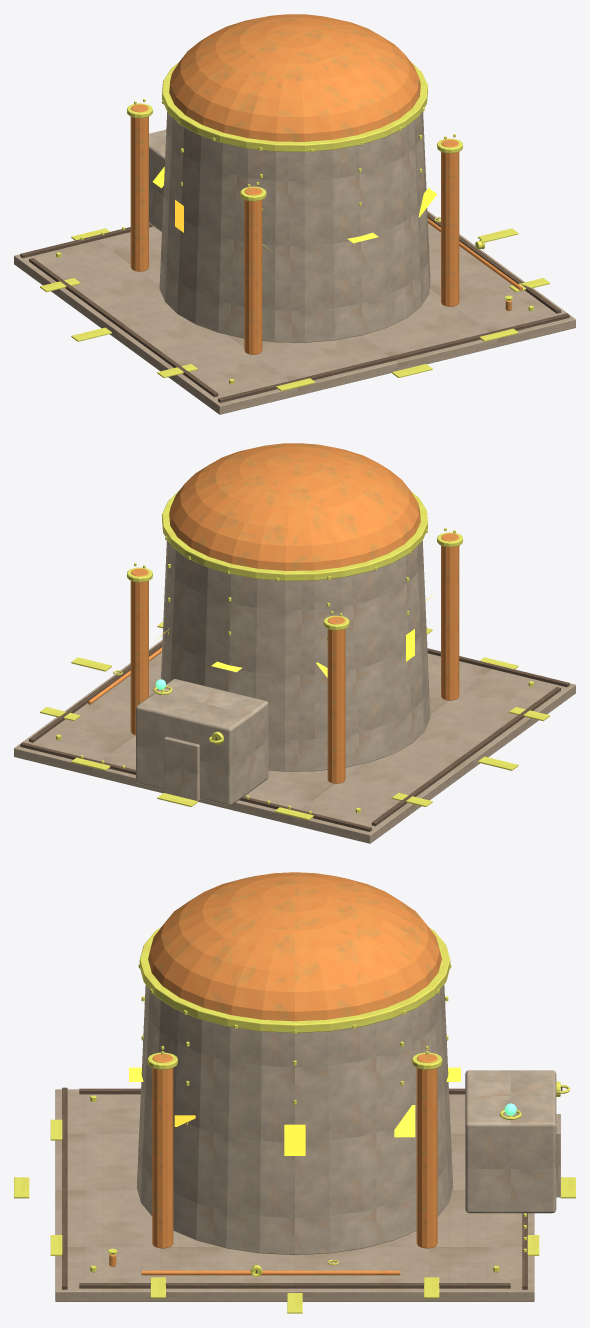
Rendered from ff-reactor.glb.
3 renders of one model, top to bottom at view 1: azimuth 30°, elevation 25°; view 2: azimuth 150°, elevation 25°; view 3: azimuth 270°, elevation 25°, orthographic. The views are drawn at different scales.
Visible parts, largest first — view 1: Containment, PadPipe.014, Pad.014, Bolt.022, PadLipN.014, GaugeBoss.010; view 2: Containment, PadPipe.014, Pad.014, Bolt.022, PadLipN.014, GaugeBoss.010, AnnexDoor; view 3: Containment, PadPipe.014, Pad.014, Bolt.022, PadLipN.014, GaugeBoss.010, GlowCore0.
Boxes of the visible parts, x1=… form: Containment: x1=149, y1=111, x2=430, y2=342; PadPipe.014: x1=130, y1=14, x2=522, y2=354; Pad.014: x1=14, y1=211, x2=575, y2=414; Bolt.022: x1=56, y1=61, x2=533, y2=384; PadLipN.014: x1=20, y1=213, x2=569, y2=402; GaugeBoss.010: x1=40, y1=219, x2=549, y2=391; Containment: x1=136, y1=540, x2=430, y2=805; PadPipe.014: x1=87, y1=443, x2=459, y2=783; Pad.014: x1=14, y1=640, x2=575, y2=843; Bolt.022: x1=56, y1=490, x2=533, y2=813; PadLipN.014: x1=20, y1=642, x2=569, y2=831; GaugeBoss.010: x1=40, y1=622, x2=549, y2=820; AnnexDoor: x1=164, y1=736, x2=199, y2=801; Containment: x1=136, y1=985, x2=556, y2=1254; PadPipe.014: x1=109, y1=872, x2=441, y2=1275; Pad.014: x1=55, y1=1089, x2=534, y2=1301; Bolt.022: x1=90, y1=927, x2=560, y2=1274; PadLipN.014: x1=62, y1=1086, x2=562, y2=1289; GaugeBoss.010: x1=14, y1=1119, x2=575, y2=1313; GlowCore0: x1=284, y1=1124, x2=305, y2=1155.
Size of the model in its own units: 6.18 by 3.51 by 5.86.
11 materials, 8 textured.
